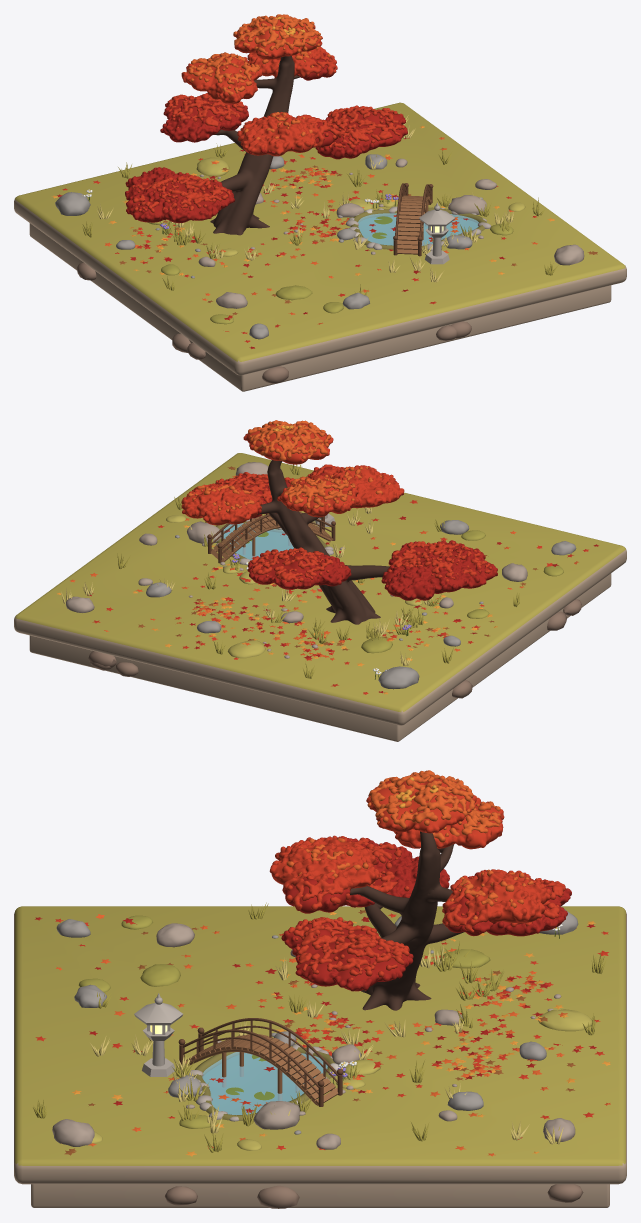
Rendered from autumn.glb.
3 views of the same model, one above another, from view 1: azimuth 30°, elevation 25°; view 2: azimuth 150°, elevation 25°; view 3: azimuth 270°, elevation 25° (orthographic). The views are drawn at different scales.
Visible parts, largest first — view 1: Base, Blossoms, Grass, Rocks, Trunk, Leaves, Bridge, Water, Pond, Lantern; view 2: Base, Blossoms, Grass, Rocks, Trunk, Leaves, Bridge, Water; view 3: Base, Blossoms, Grass, Rocks, Leaves, Trunk, Bridge, Water, Lantern, Pond.
Boxes of the visible parts, x1,y1,x2,y2 form: Base: [14, 102, 626, 391]; Blossoms: [125, 14, 407, 223]; Grass: [82, 111, 559, 324]; Rocks: [55, 154, 584, 339]; Trunk: [210, 56, 299, 235]; Leaves: [51, 125, 597, 348]; Bridge: [393, 183, 433, 256]; Water: [358, 213, 478, 245]; Pond: [345, 206, 491, 250]; Lantern: [419, 202, 455, 264]; Base: [14, 453, 626, 741]; Blossoms: [181, 420, 497, 600]; Grass: [61, 464, 563, 678]; Rocks: [66, 462, 576, 689]; Trunk: [257, 460, 389, 624]; Leaves: [57, 466, 598, 694]; Bridge: [207, 512, 335, 563]; Water: [223, 523, 293, 560]; Base: [14, 906, 626, 1208]; Blossoms: [269, 770, 571, 991]; Grass: [33, 902, 606, 1152]; Rocks: [52, 906, 578, 1149]; Leaves: [35, 910, 610, 1156]; Trunk: [350, 831, 464, 1010]; Bridge: [178, 1018, 343, 1106]; Water: [202, 1052, 327, 1115]; Lantern: [134, 993, 183, 1076]; Pond: [189, 1044, 340, 1121].
Size of the model in its own units: 72 by 39.03 by 72.
